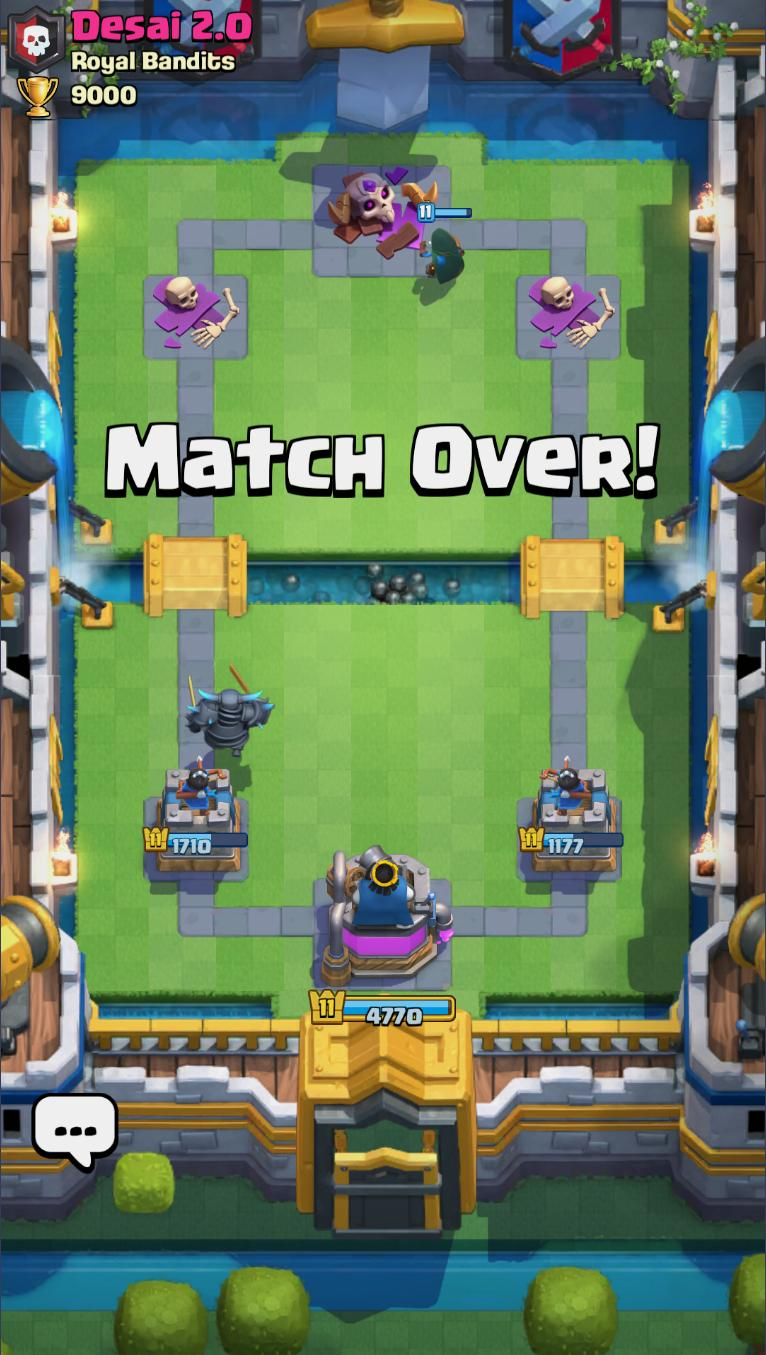EnemyTowerBrocken: (138, 269, 254, 364), (509, 269, 624, 364)
KingTowerBrocken: (310, 158, 451, 284)
MatchOver: (105, 420, 660, 500)
MyBandit: (415, 203, 474, 287)
MyKingHP: (308, 987, 459, 1029)
MyKingTower: (312, 841, 459, 990)
MyPekka: (182, 665, 273, 760)
MyPrincessTower: (517, 765, 625, 882), (147, 765, 248, 879)
MyPrincessTowerHP: (518, 824, 627, 859), (142, 825, 250, 857)
